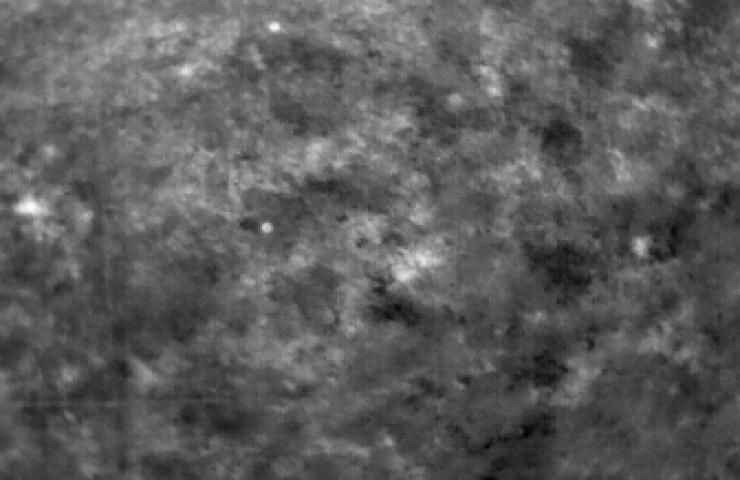landmines: (261, 220, 276, 236)
